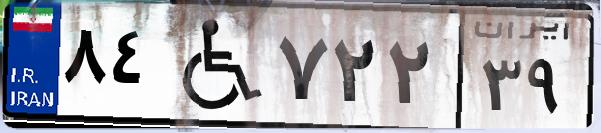2: (385, 28, 445, 110), (330, 28, 385, 110)
3: (475, 38, 525, 113)
4: (110, 28, 158, 98)
7: (270, 28, 330, 110)
8: (57, 26, 110, 100)
9: (525, 38, 570, 115)
ژ (معلولین و جانبازان): (158, 12, 270, 120)
